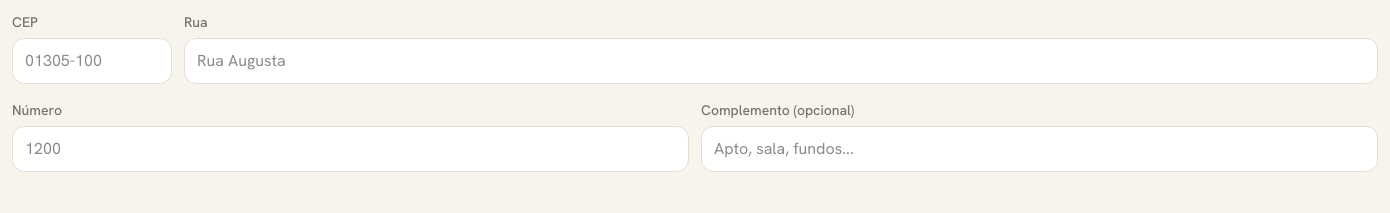
Scenario: AddressFields › busca a rua automaticamente quando o CEP completa 8 dígitos e sai do campo
Type "01305100" into the field labelled "CEP" at (92, 61), box [12, 38, 172, 84]
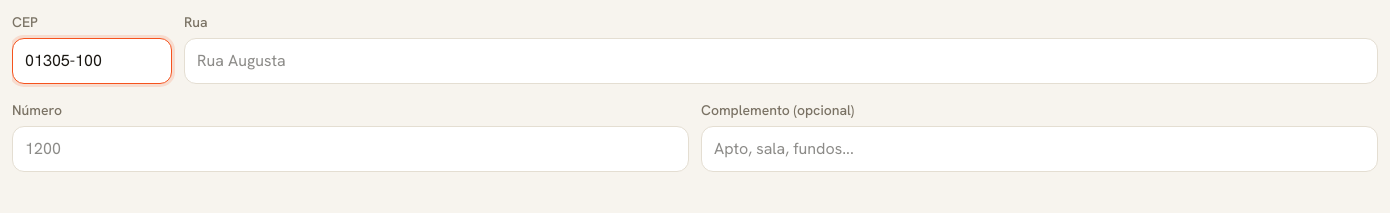
Press Tab
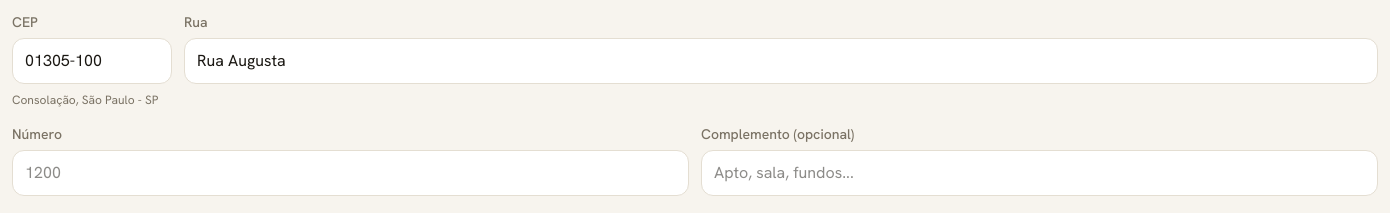
Expected: the field showing "Rua Augusta" is shown, [184, 38, 1378, 84]
Result: the text "Consolação, São Paulo - SP" is shown at [12, 92, 158, 108]
